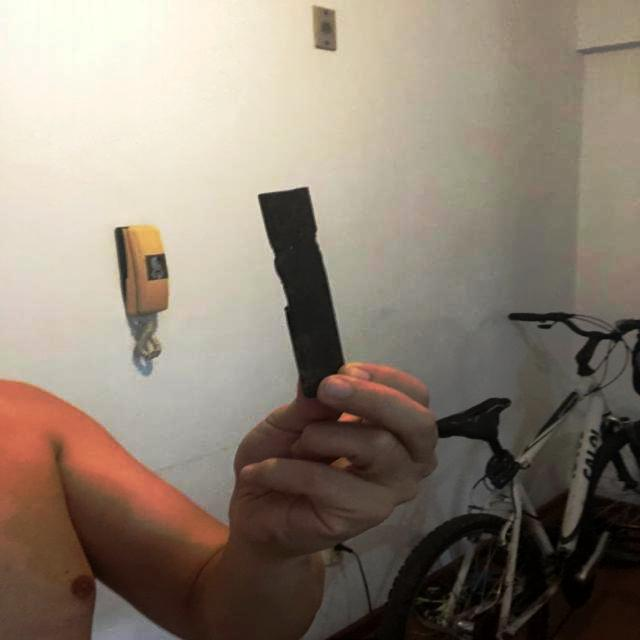Corrosion: (258, 187, 345, 398)
